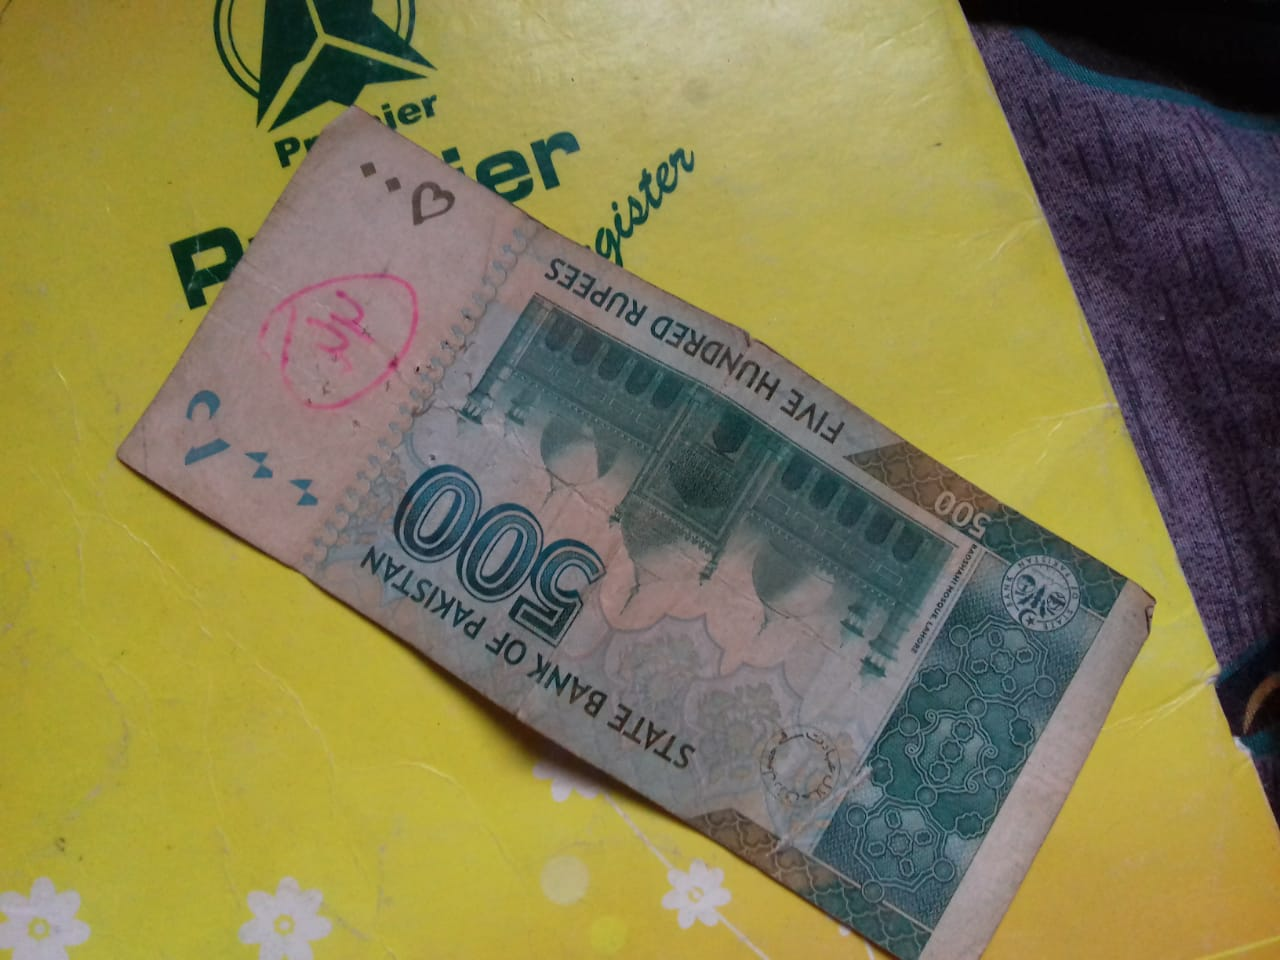500 rupee: (168, 141, 1145, 948)
